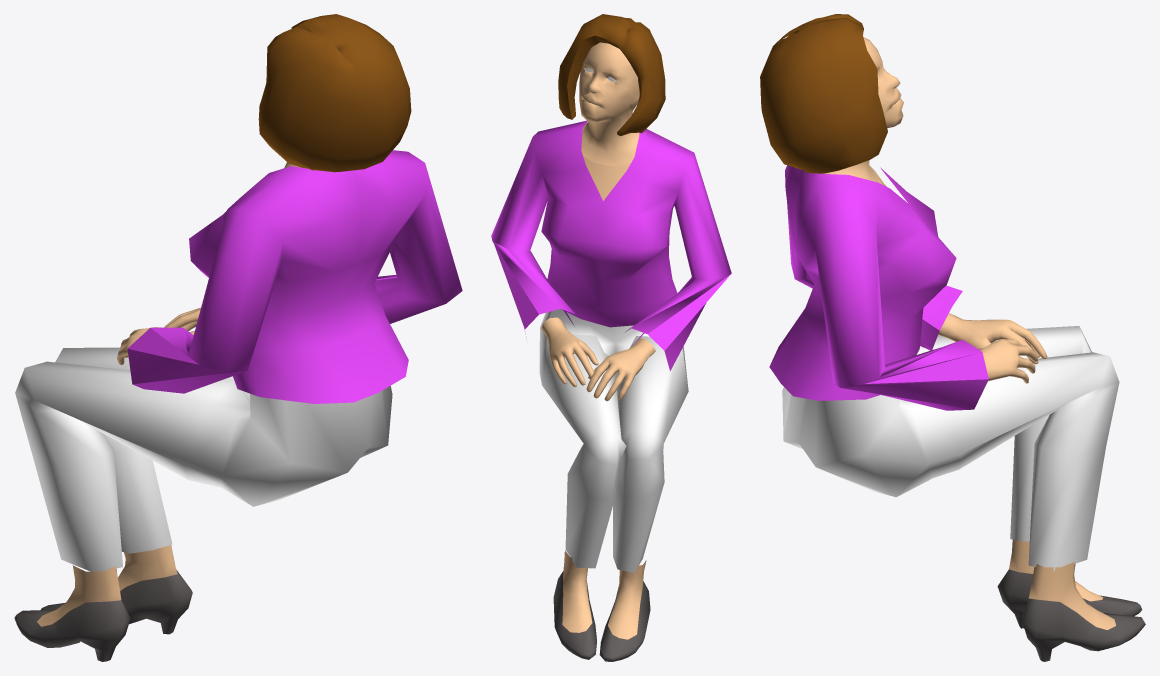
File: player1.gltf
The picture shows the model from 3 angles, left to right: view 1: azimuth 30°, elevation 25°; view 2: azimuth 150°, elevation 25°; view 3: azimuth 270°, elevation 25°; orthographic projection. The views are drawn at different scales.
Visible parts, largest first — view 1: Group_099, Group_101, Group_103, Group_106, Group_105, Group_102; view 2: Group_099, Group_101, Group_102, Group_103, Group_105, Group_106, Group_100; view 3: Group_101, Group_099, Group_103, Group_106, Group_102, Group_105.
Part boxes in pixels (<box>): Group_099: <box>127,150,462,403</box>; Group_101: <box>15,347,392,571</box>; Group_103: <box>258,14,411,172</box>; Group_106: <box>14,570,192,661</box>; Group_105: <box>37,545,177,626</box>; Group_102: <box>117,162,300,365</box>; Group_099: <box>491,120,731,371</box>; Group_101: <box>539,309,688,572</box>; Group_102: <box>541,42,655,401</box>; Group_103: <box>558,14,665,136</box>; Group_105: <box>562,550,646,639</box>; Group_106: <box>553,571,650,661</box>; Group_100: <box>583,156,630,200</box>; Group_101: <box>782,326,1119,570</box>; Group_099: <box>769,165,988,410</box>; Group_103: <box>760,14,887,173</box>; Group_106: <box>997,569,1145,661</box>; Group_102: <box>822,37,1047,383</box>; Group_105: <box>1009,539,1115,629</box>.
Bounding box in the file's own units: 1.18 × 2.38 × 1.26.
